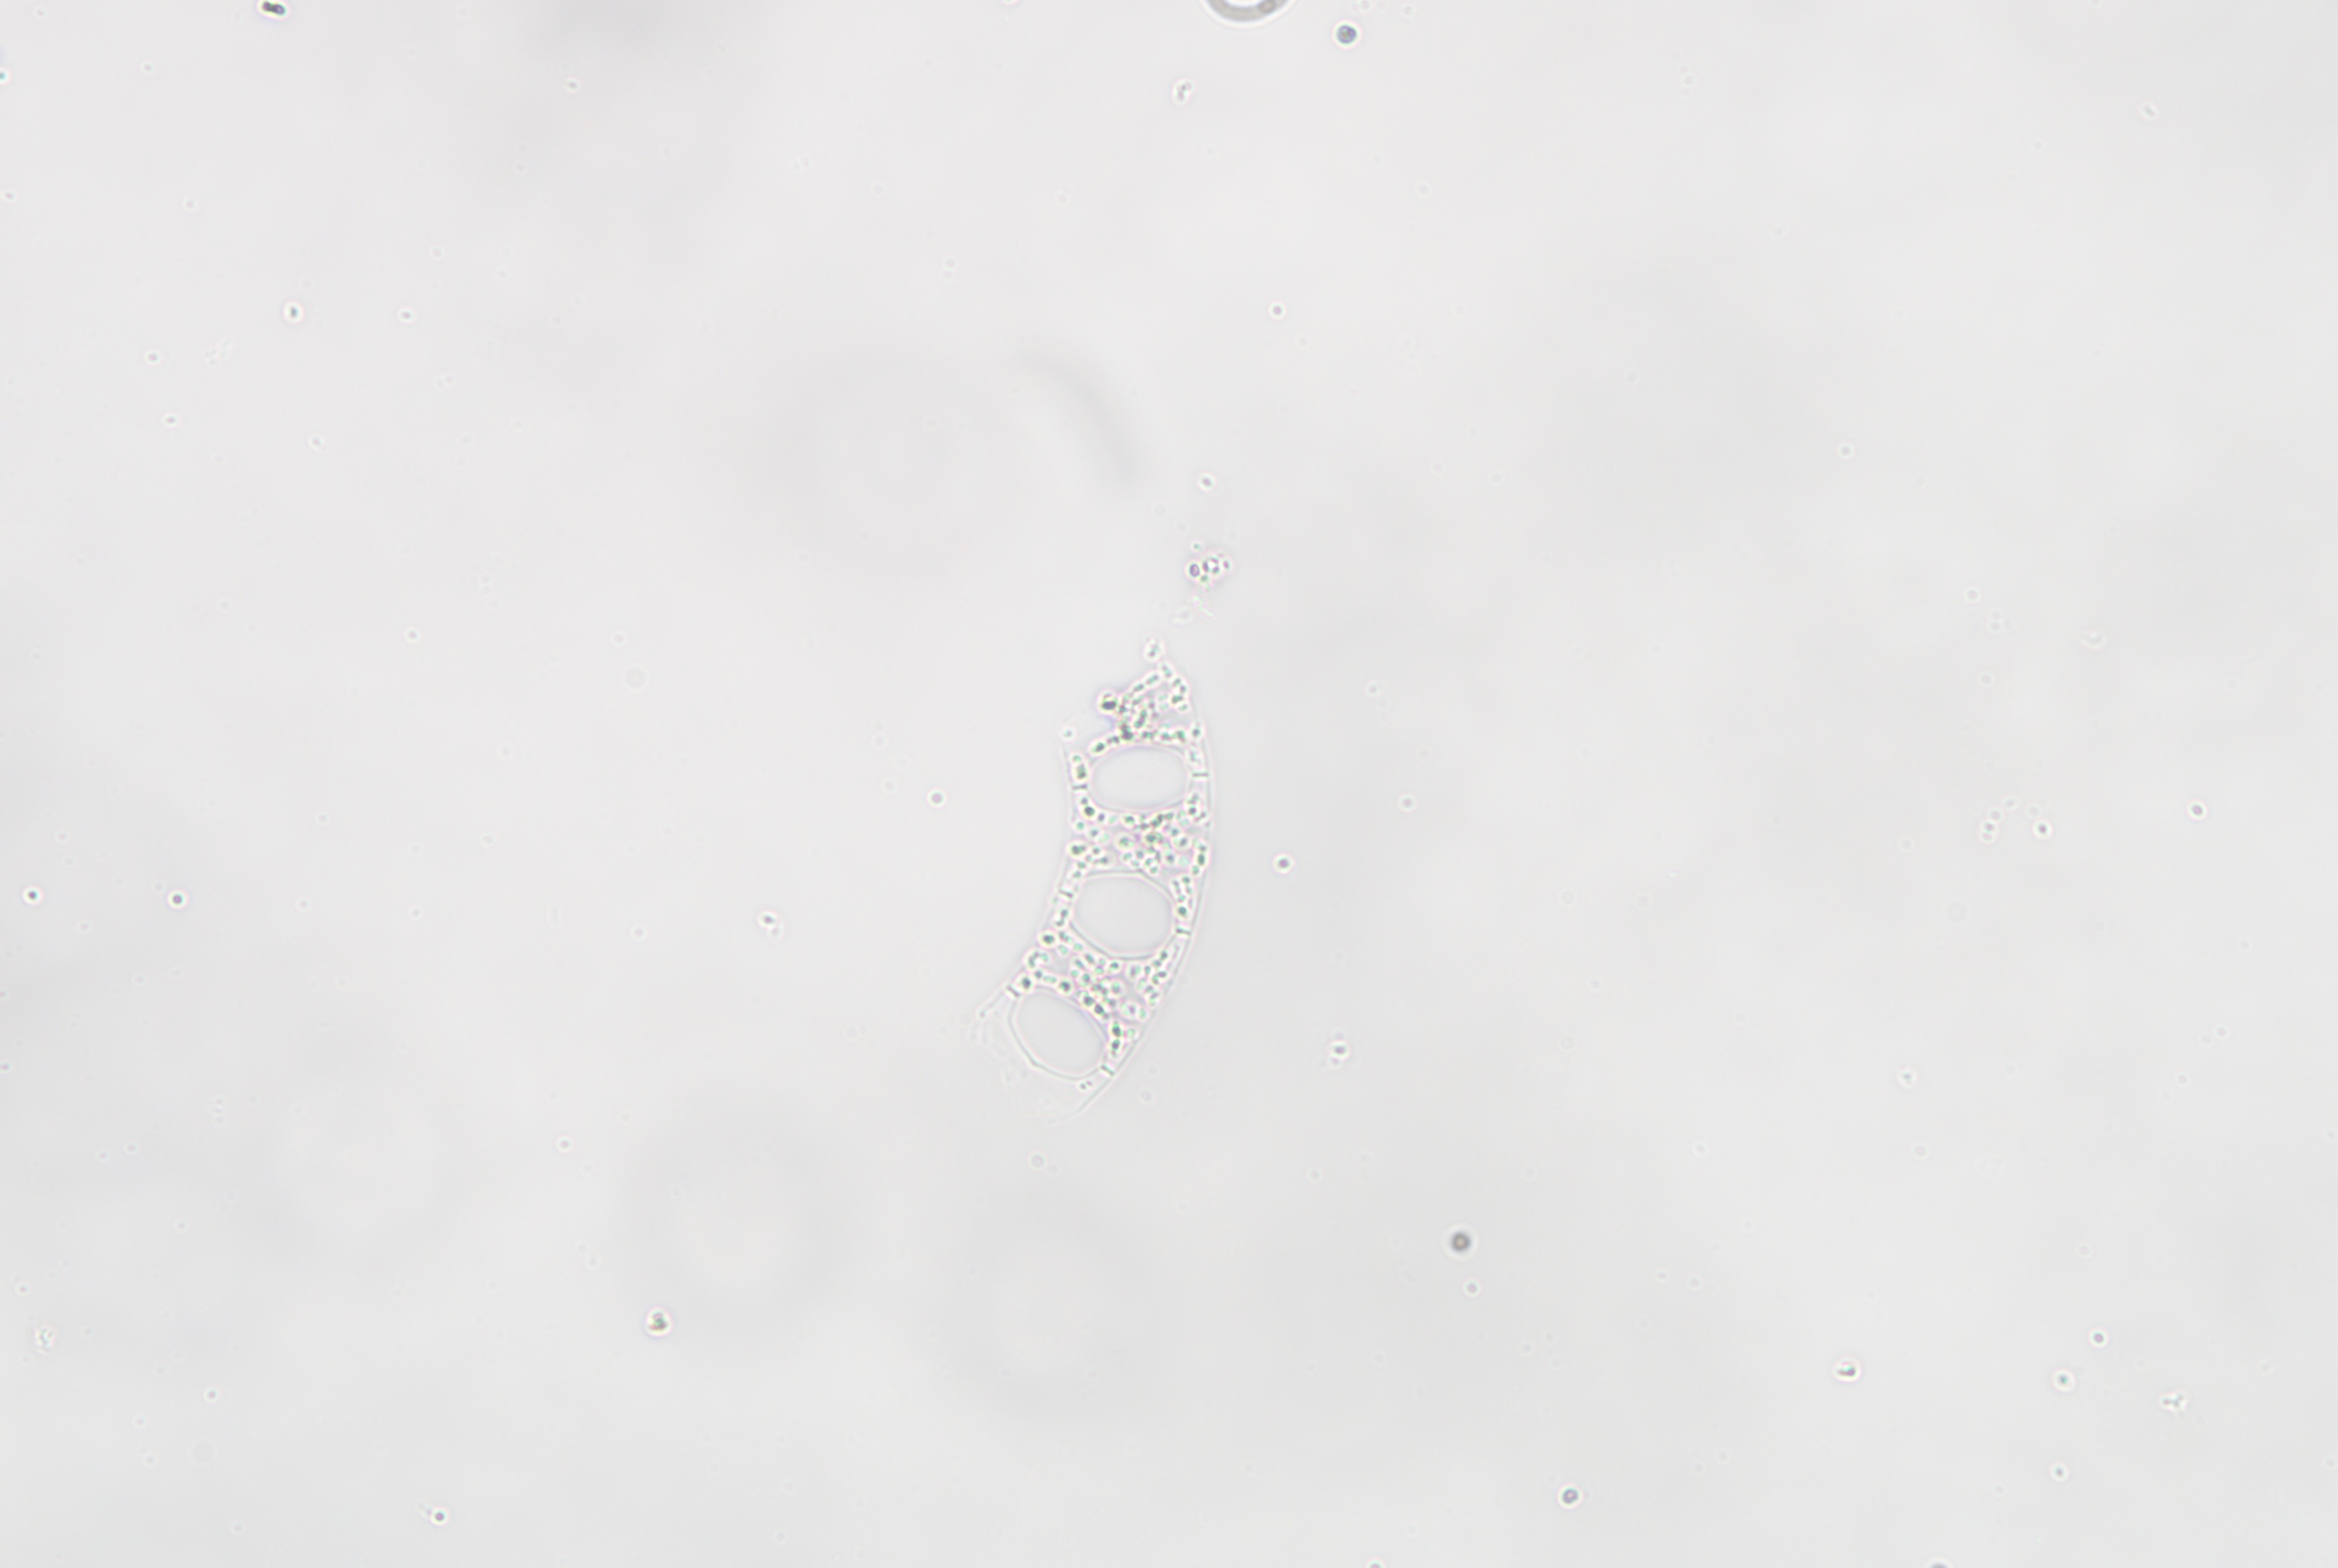eucampia: (977, 635, 1211, 1115)
